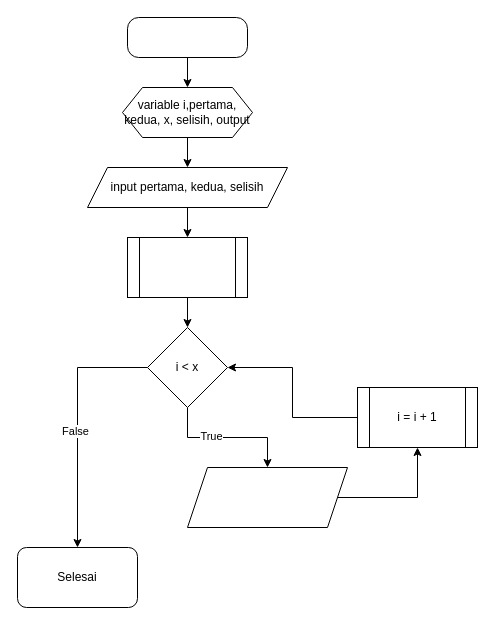
Image size: 495x625. Some labels were removed from this diagram. The shapes that lost their labels are listed below. From the top down, each one's centre as x and y in pixels, then its label:
the point at 187,37: Start
the point at 187,267: selisih = kedua - pertama i = 0
the point at 267,497: print output + selisih
